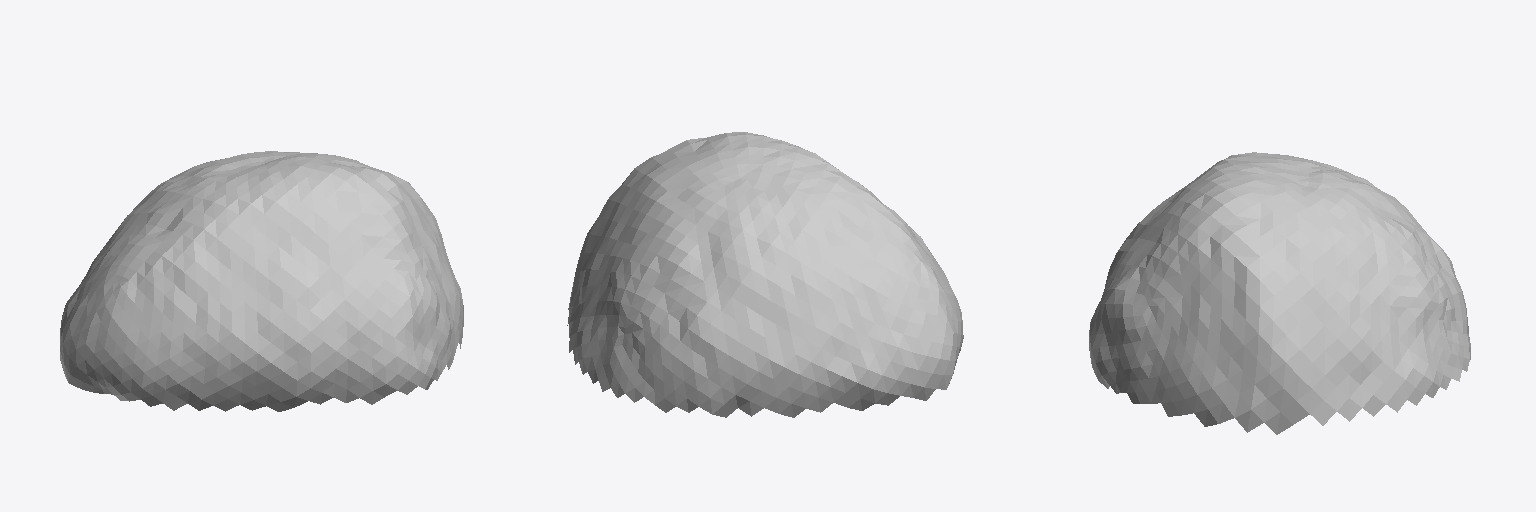
File: rock.obj
3 views of the same model, side by side, from view 1: azimuth 30°, elevation 25°; view 2: azimuth 150°, elevation 25°; view 3: azimuth 270°, elevation 25° (orthographic).
Visible parts, largest first — view 1: rock; view 2: rock; view 3: rock.
Part boxes in pixels (bbox=[...]): rock: bbox=[60, 151, 463, 411]; rock: bbox=[567, 132, 963, 417]; rock: bbox=[1089, 152, 1470, 434].
Bounding box in the file's own units: 1.07 × 0.5061 × 0.9584.